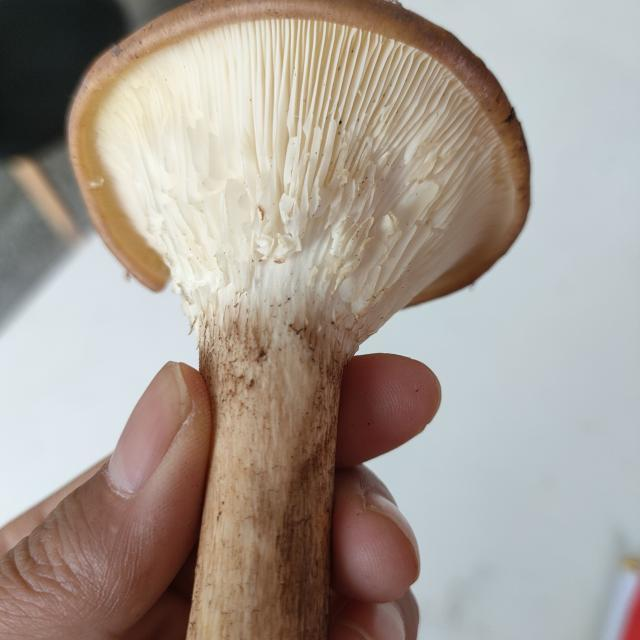Clitocybe maxima: (69, 0, 531, 640)
